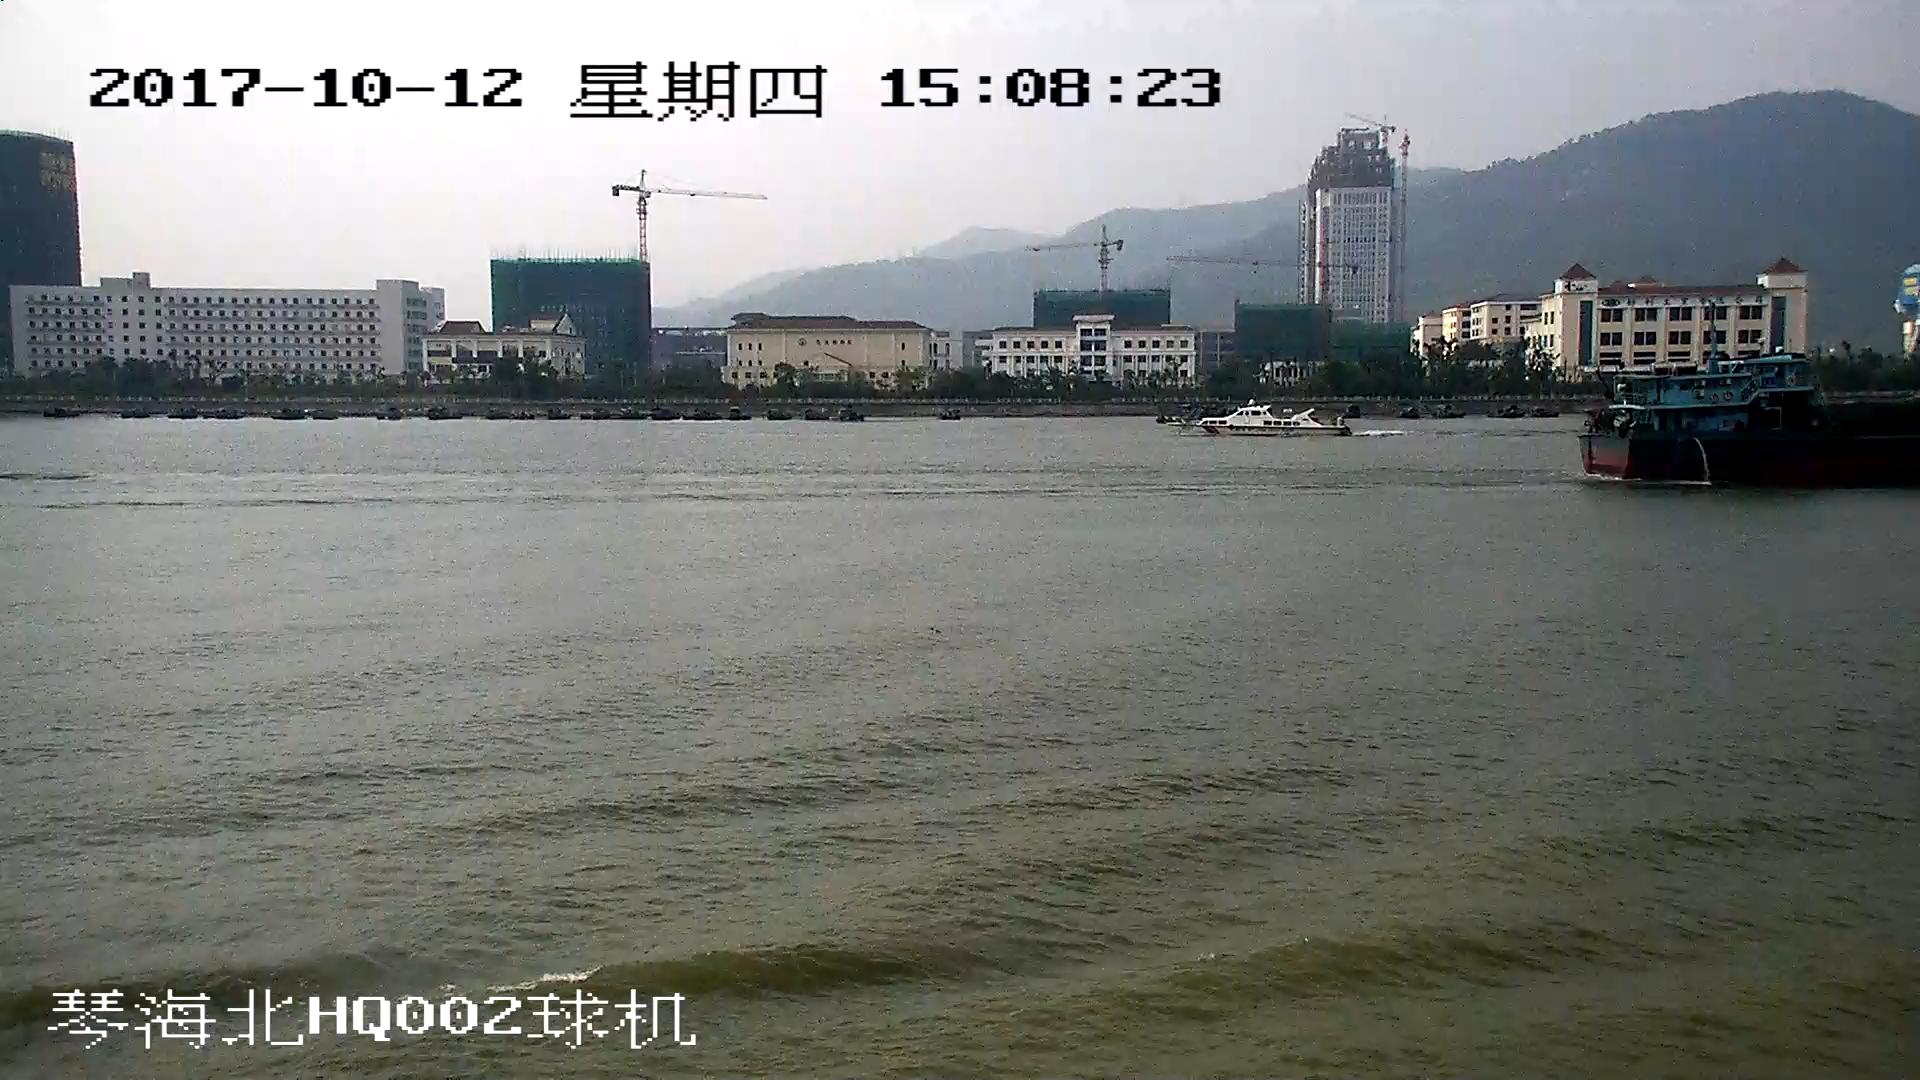passenger ship: (1190, 404, 1353, 441)
